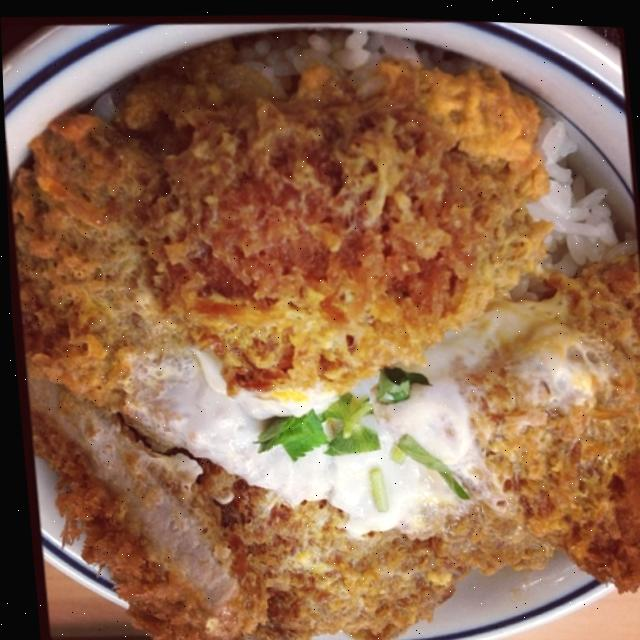牛肉菜式: (0, 9, 640, 640)
